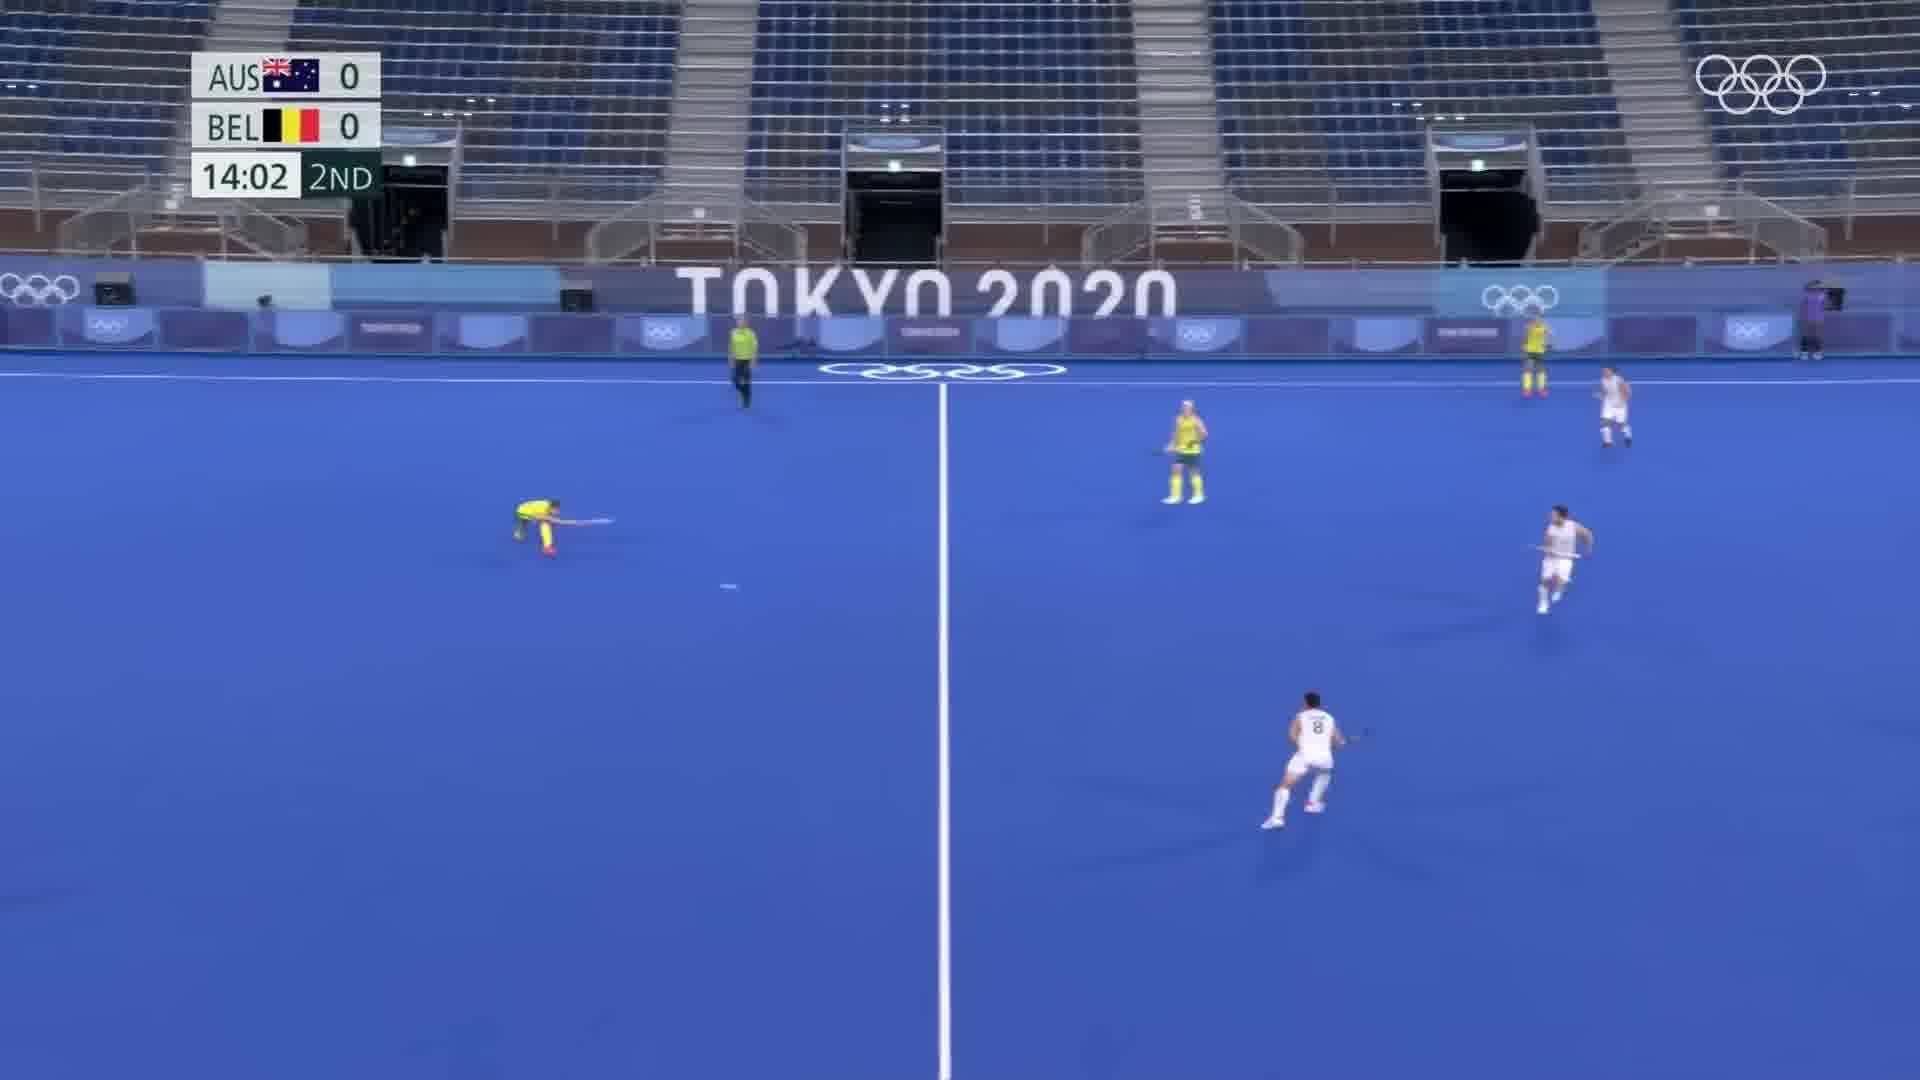ball: (713, 580, 744, 596)
